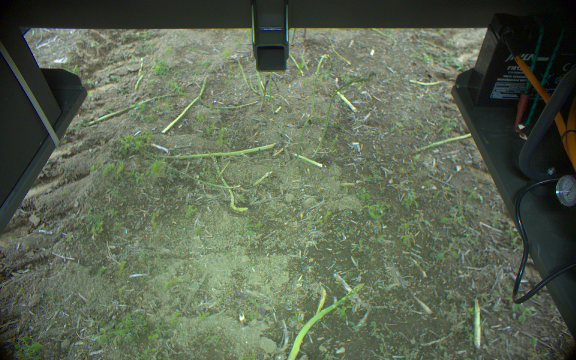aspa: (284, 281, 370, 360), (311, 75, 370, 154), (88, 89, 185, 126), (160, 74, 207, 133), (144, 143, 276, 159), (472, 296, 483, 351), (258, 78, 272, 113)
